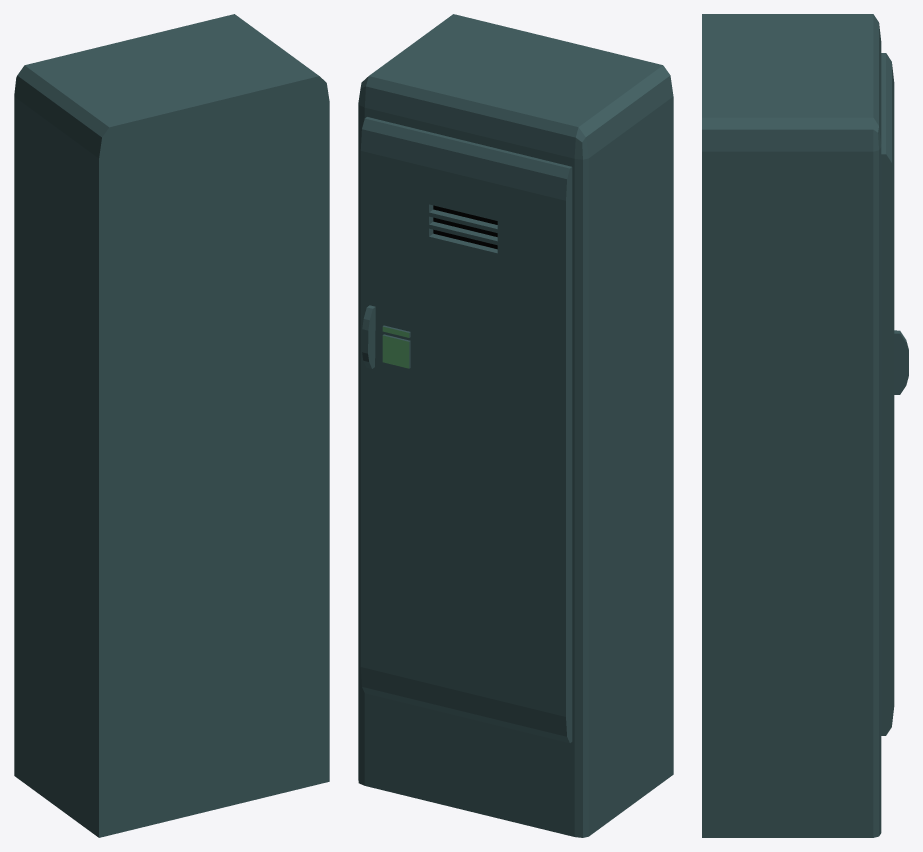
The model's file is SingleLocker.fbx.
3 views of the same model, side by side, from view 1: azimuth 30°, elevation 25°; view 2: azimuth 150°, elevation 25°; view 3: azimuth 270°, elevation 25° (orthographic).
Visible parts, largest first — view 1: Locker Single; view 2: Locker Single; view 3: Locker Single.
Part boxes in pixels (x1,y1,x2,y2): Locker Single: (14, 14, 329, 837); Locker Single: (358, 14, 673, 837); Locker Single: (702, 14, 908, 837).
Size of the model in its own units: 60 by 176 by 46.13.
